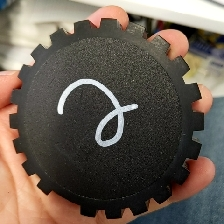gear: (7, 16, 206, 220)
missing: (36, 178, 100, 219)
